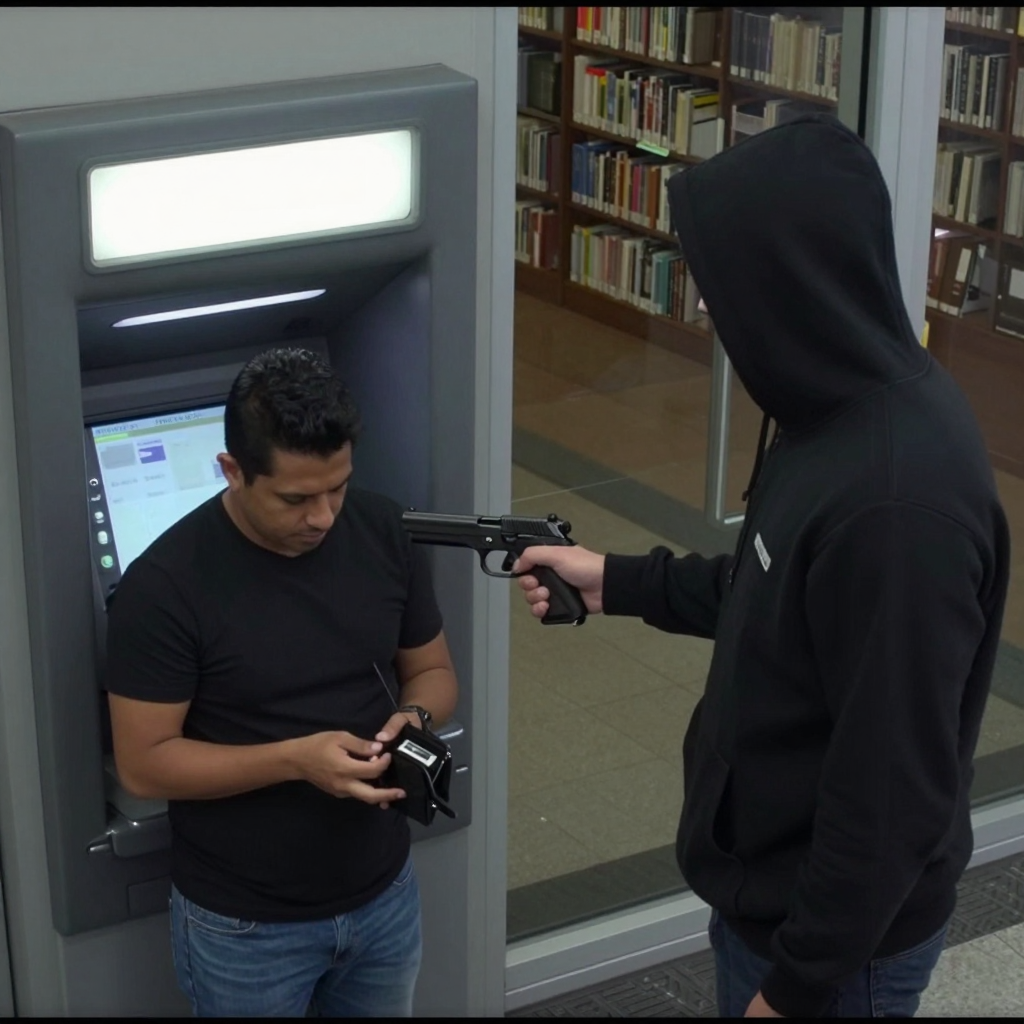Robbery: (509, 113, 1013, 1017), (101, 345, 460, 1018)
Shooting: (400, 510, 588, 627)
